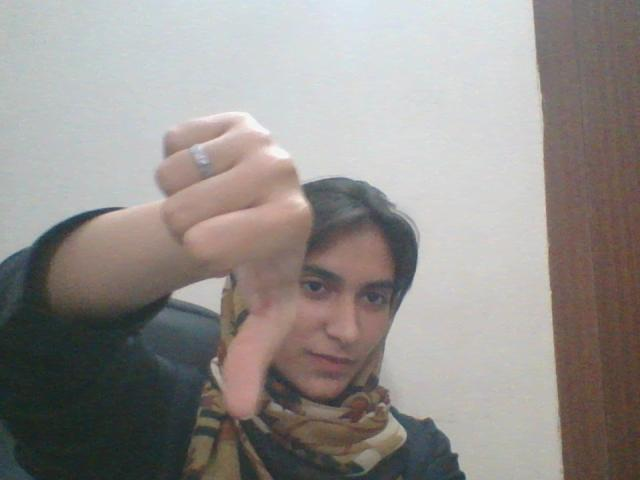thumbs-down: (151, 110, 313, 419)
